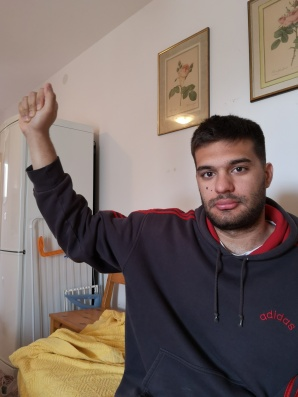A: (16, 81, 61, 136)
